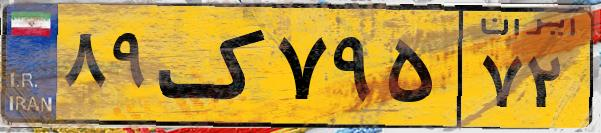2: (525, 38, 570, 115)
5: (385, 28, 445, 110)
7: (270, 28, 330, 110), (475, 38, 525, 113)
8: (57, 26, 110, 100)
9: (330, 28, 385, 110), (110, 28, 158, 98)
ک: (158, 12, 270, 120)
